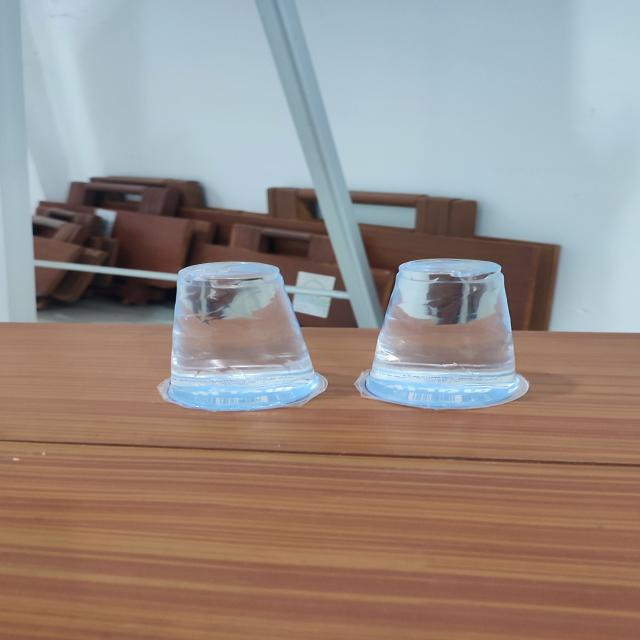air gelas: (143, 254, 333, 416), (357, 254, 547, 412)
